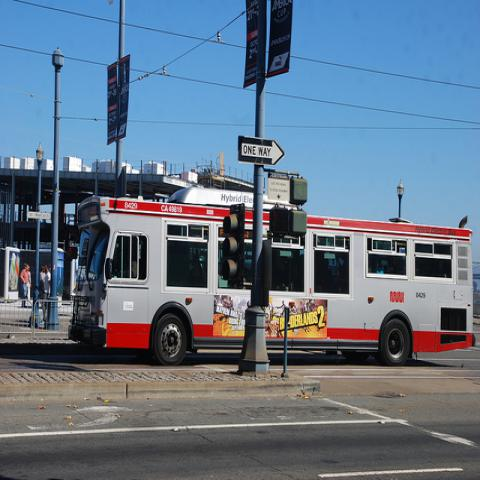bus: (68, 188, 474, 366)
